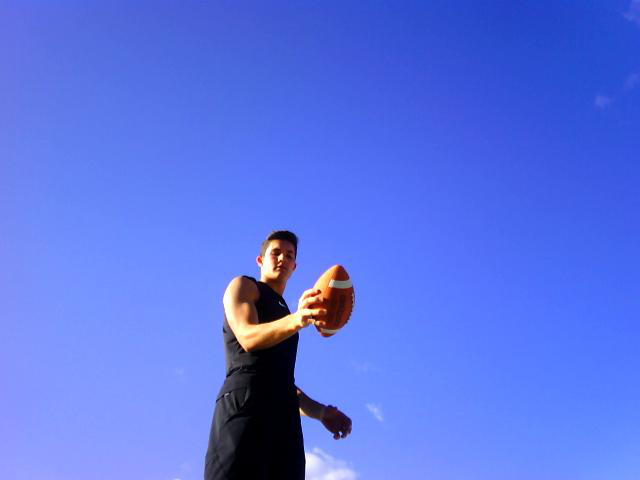footbal: (311, 265, 355, 339)
